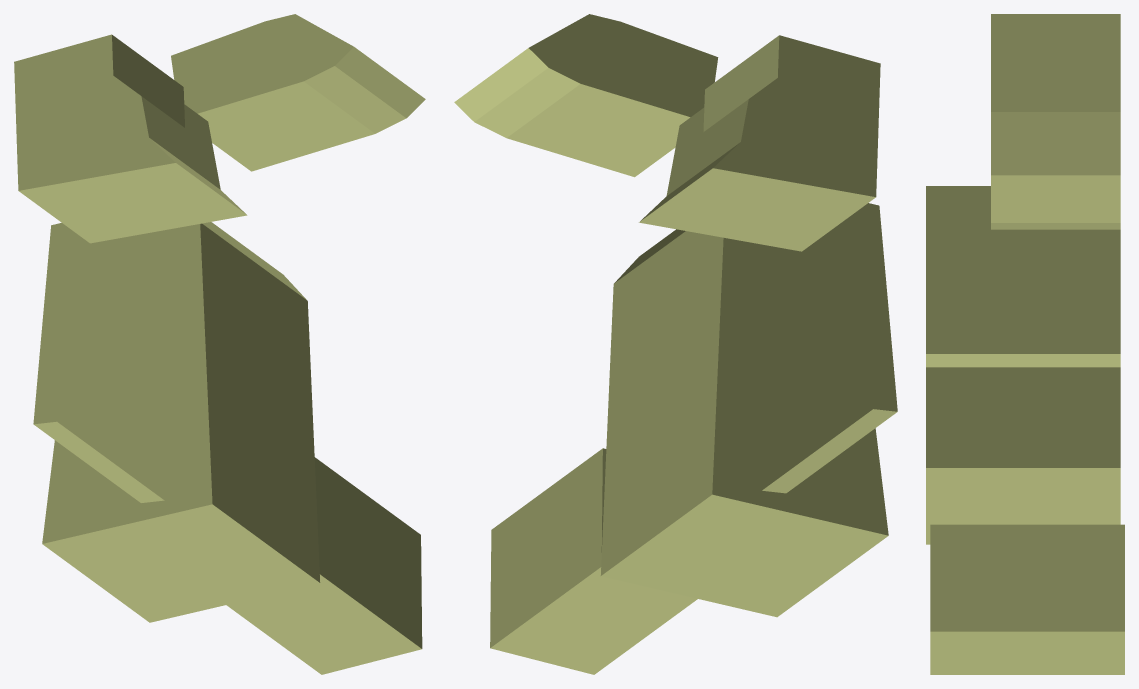
3 views of the same model, side by side, from view 1: azimuth 30°, elevation 25°; view 2: azimuth 150°, elevation 25°; view 3: azimuth 270°, elevation 25° (orthographic). The views are drawn at different scales.
Parts seen in each view (by area): view 1: 0_1_0_0_1_3_2_2_1; view 2: 0_1_0_0_1_3_2_2_1; view 3: 0_1_0_0_1_3_2_2_1.
Boxes of the visible parts, x1,y1,x2,y2 form: 0_1_0_0_1_3_2_2_1: (14, 14, 425, 674); 0_1_0_0_1_3_2_2_1: (454, 14, 897, 674); 0_1_0_0_1_3_2_2_1: (926, 14, 1124, 674).
Size of the model in its own units: 16.41 by 27.16 by 9.2.
